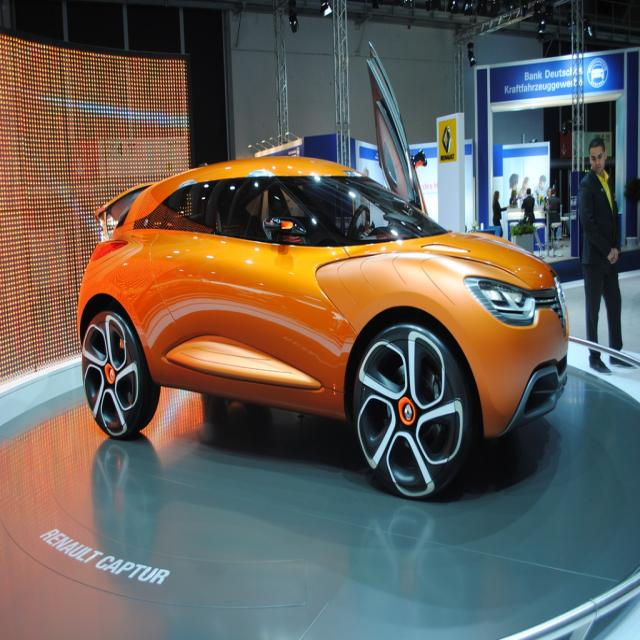car: (76, 38, 572, 496)
